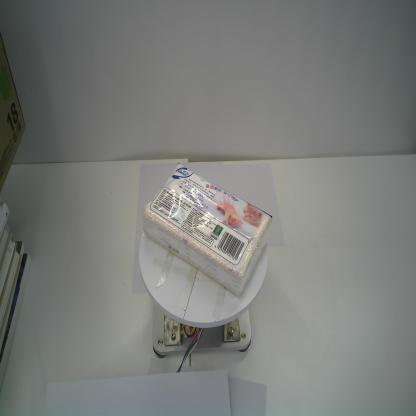Tissue: (142, 163, 272, 297)
